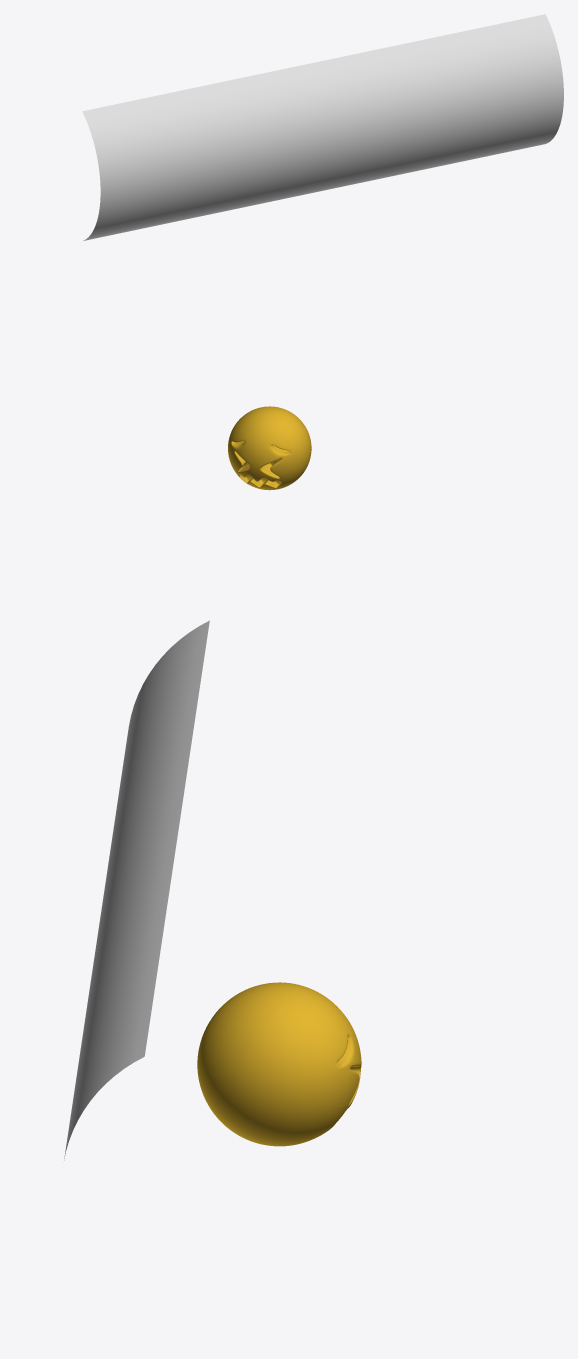
File: confounded 3DS.glb
The picture shows the model from 3 angles, top to bottom: view 1: azimuth 30°, elevation 25°; view 2: azimuth 150°, elevation 25°; view 3: azimuth 270°, elevation 25°; orthographic projection. The views are drawn at different scales.
Parts seen in each view (by area): view 1: Plane001; view 2: Group59187; view 3: Plane001, Group59187.
Part boxes in pixels (x1,y1,x2,y2): Plane001: (82, 14, 563, 240); Group59187: (228, 406, 311, 490); Plane001: (64, 620, 209, 1160); Group59187: (197, 982, 361, 1146).
Bounding box in the file's own units: 3.38 × 0.9857 × 1.45.
